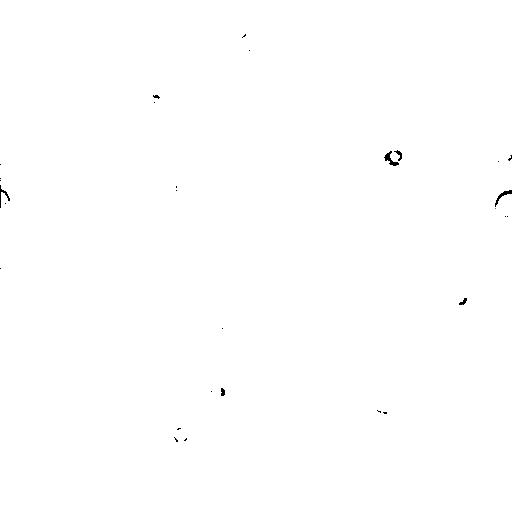micro-algae: (275, 277, 389, 395), (388, 79, 483, 177), (471, 323, 512, 397), (386, 23, 437, 65), (443, 285, 475, 316), (201, 163, 229, 193), (265, 481, 295, 506), (371, 390, 396, 415), (493, 188, 512, 219), (489, 141, 512, 165), (314, 296, 340, 315), (236, 31, 257, 53), (382, 149, 403, 169), (205, 385, 227, 402), (172, 425, 189, 443), (174, 177, 191, 195), (0, 187, 12, 205)
